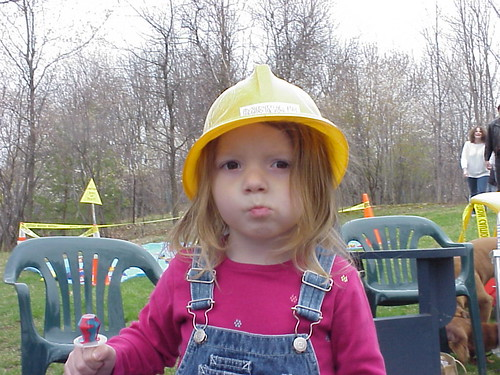person hardhat: (132, 63, 399, 375)
